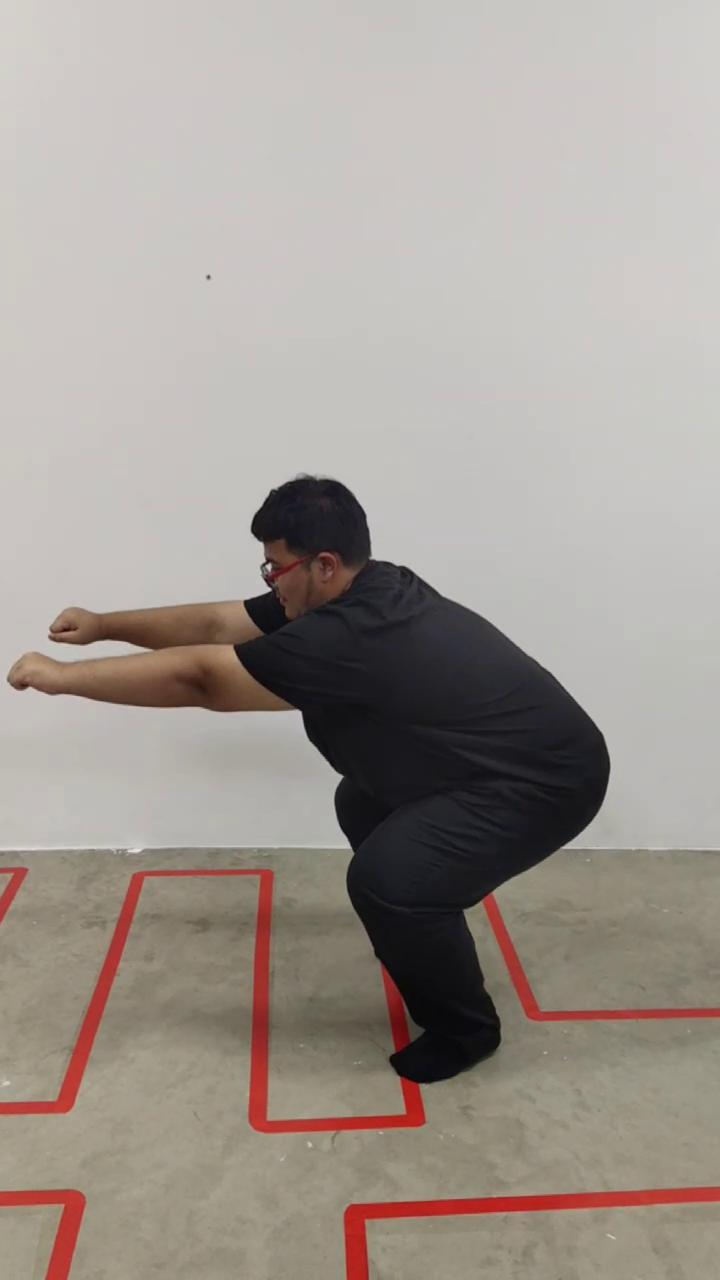squat down: (16, 474, 611, 1084)
